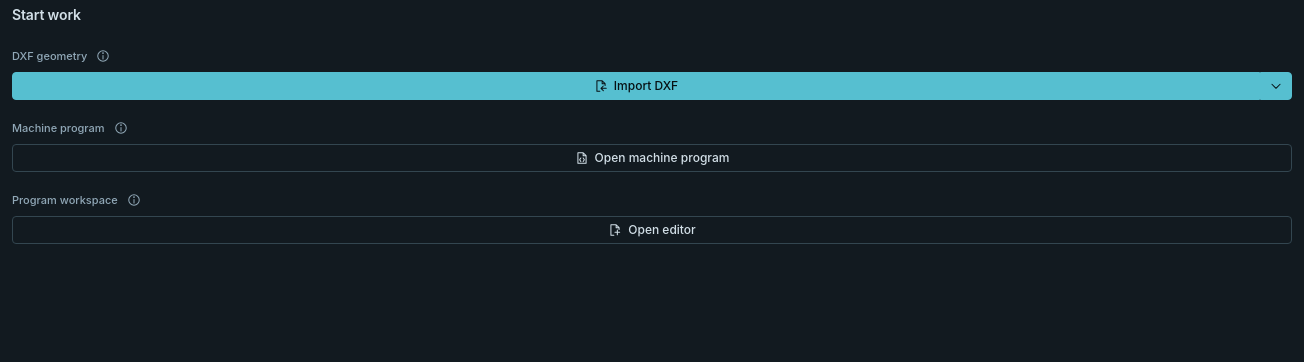
StartWorkPanel menus and imports › restores focus before the file picker, closes when busy, and announces import errors
Press ArrowDown in the button named "More path project import options", box [1260, 72, 1292, 100]
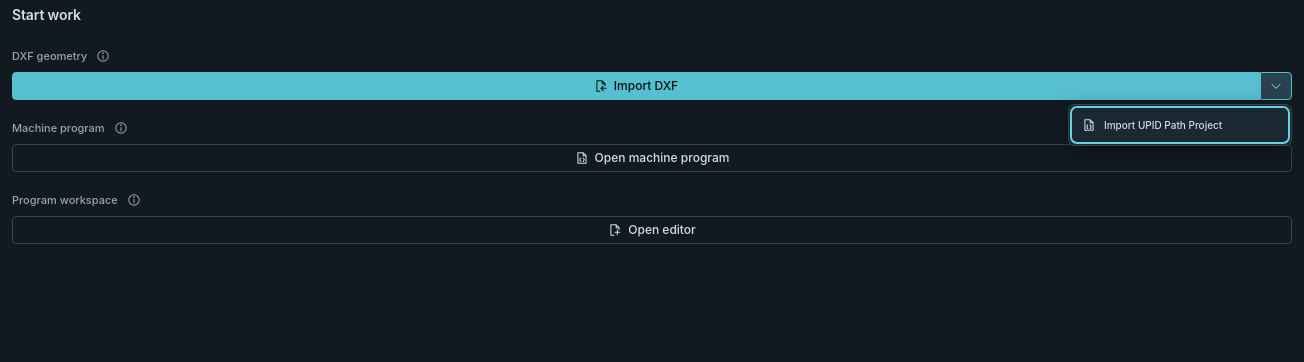
Click the menu item "Import UPID Path Project". click: (1180, 125)
box: [1073, 109, 1287, 141]
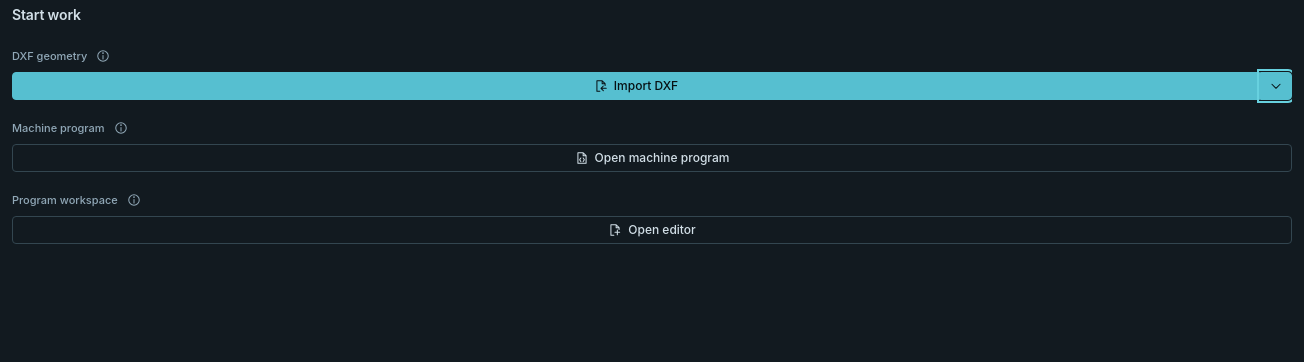
Result: the menu is gone
Press ArrowDown in the button named "More path project import options", box [1260, 72, 1292, 100]
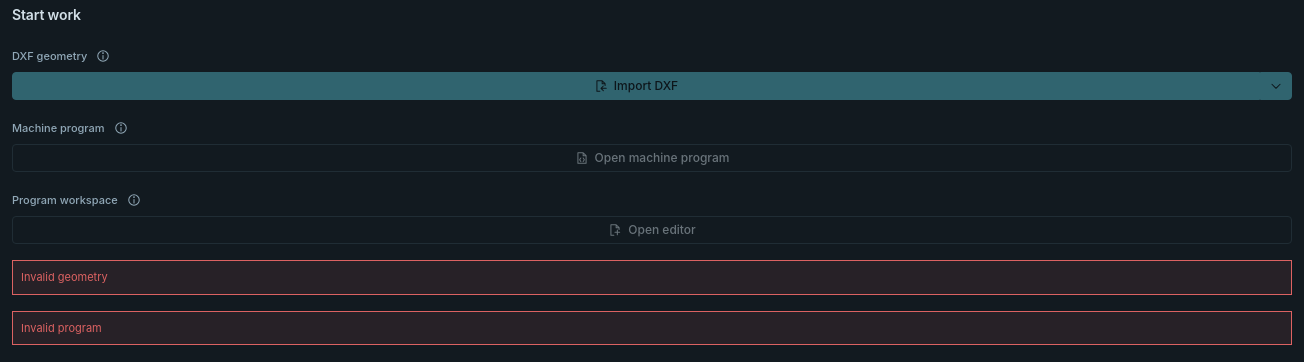
Result: the button named "More path project import options" is disabled at [1260, 72, 1292, 100]
